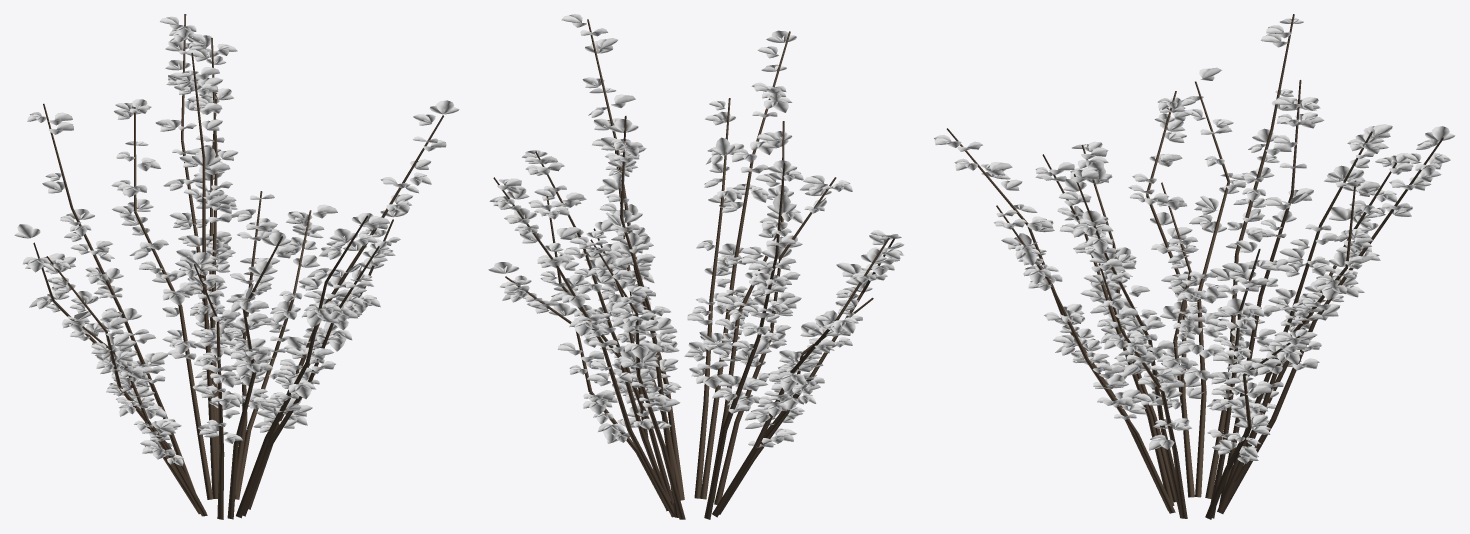
File: ENV_shrub.fbx
The picture shows the model from 3 angles, left to right: view 1: azimuth 30°, elevation 25°; view 2: azimuth 150°, elevation 25°; view 3: azimuth 270°, elevation 25°; orthographic projection. The views are drawn at different scales.
Parts seen in each view (by area): view 1: X_shrub; view 2: X_shrub; view 3: X_shrub.
Boxes of the visible parts, box(x1,y1,x2,y2) form: X_shrub: box(14, 14, 459, 519); X_shrub: box(488, 14, 904, 519); X_shrub: box(934, 14, 1455, 519).
Size of the model in its own units: 1.09 by 1.13 by 1.22.
